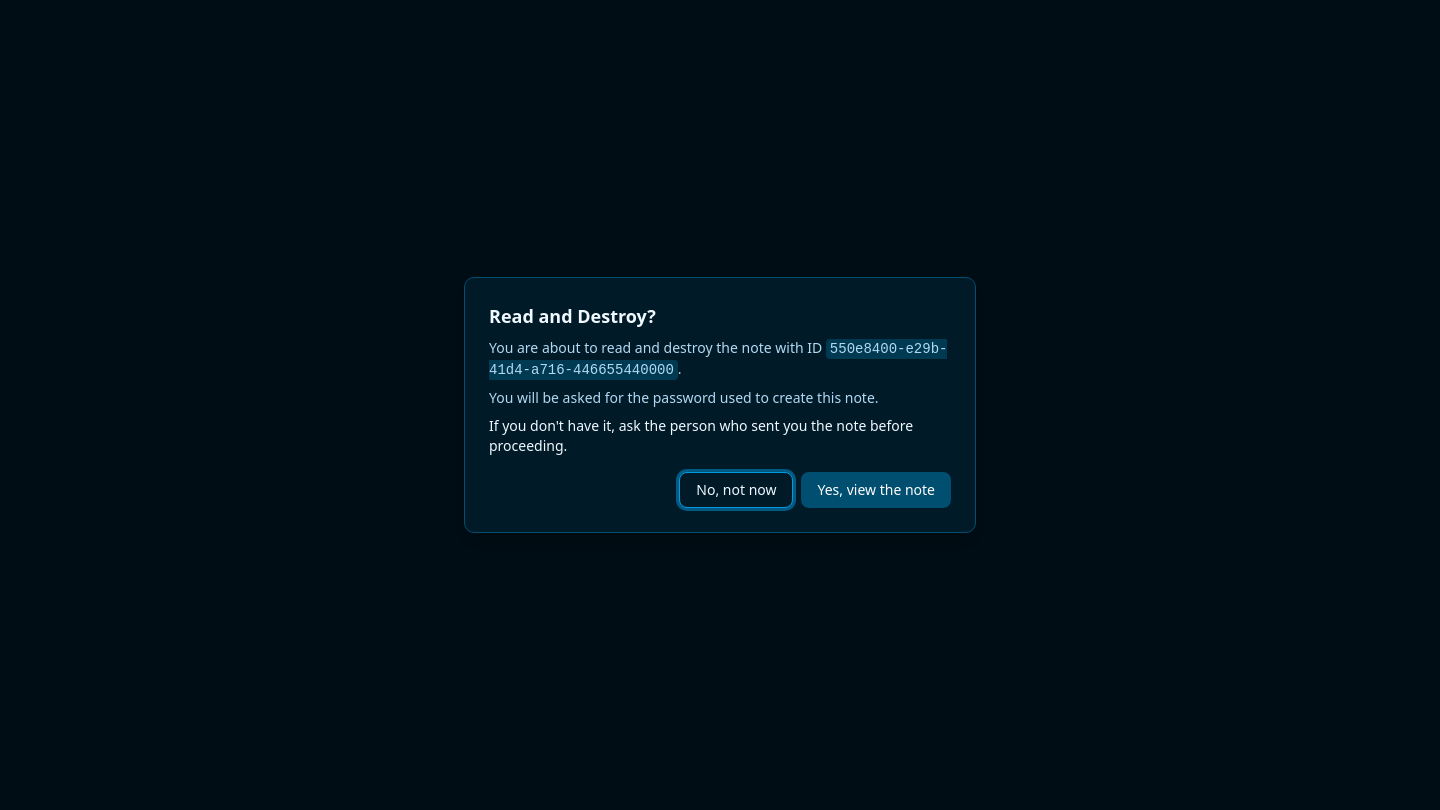
Test case: NotePage › requires password before submit
Expected: the dialog is shown, [464,277,976,533]
Click the button "Yes, view the note" at (876, 490), box [802,472,951,508]
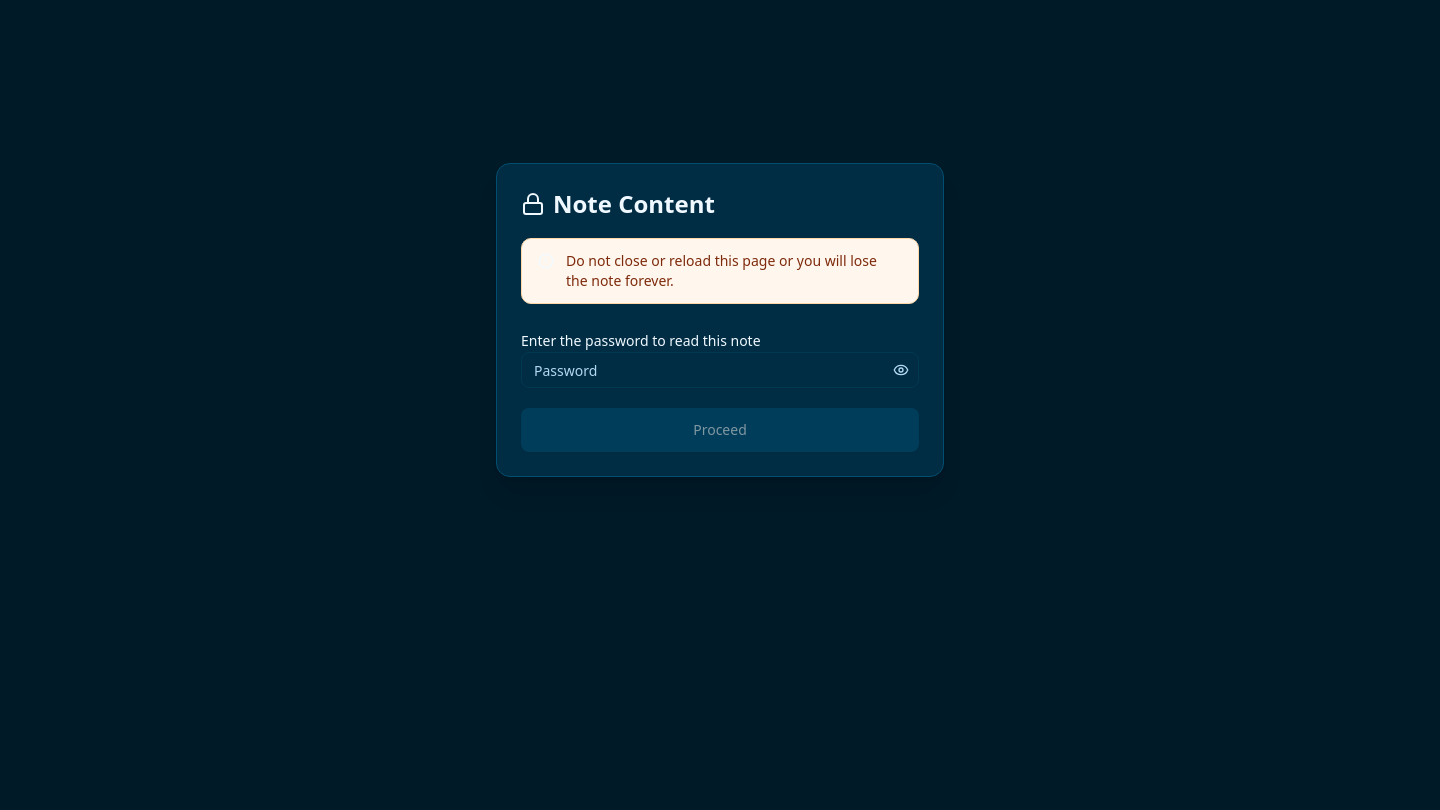
Expected: the button "Proceed" is shown, [521,408,919,452]
Submit the form "Enter the password to read this note Proceed", box [521,328,919,452]
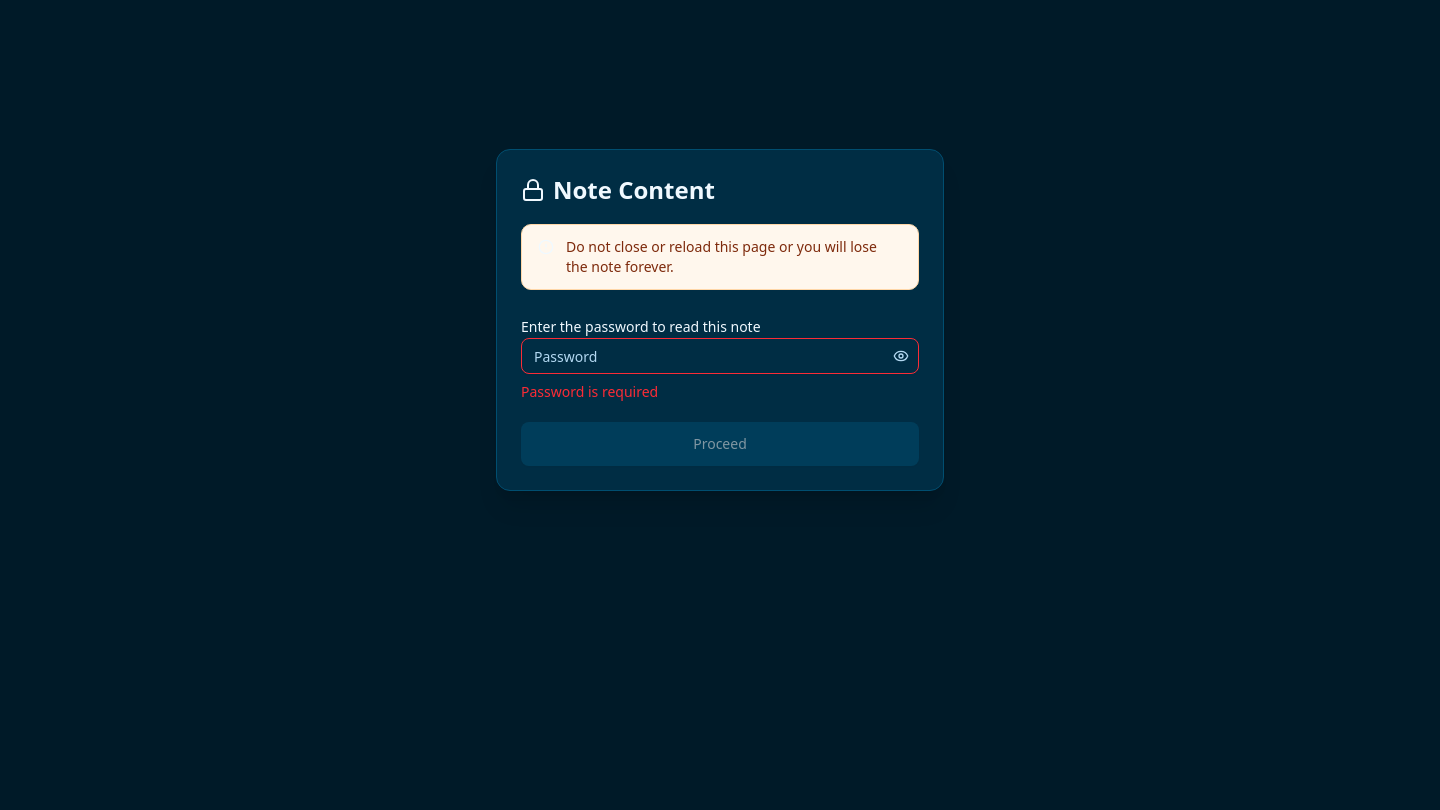
Expected: the text "Password is required" is shown, [521,382,658,401]
